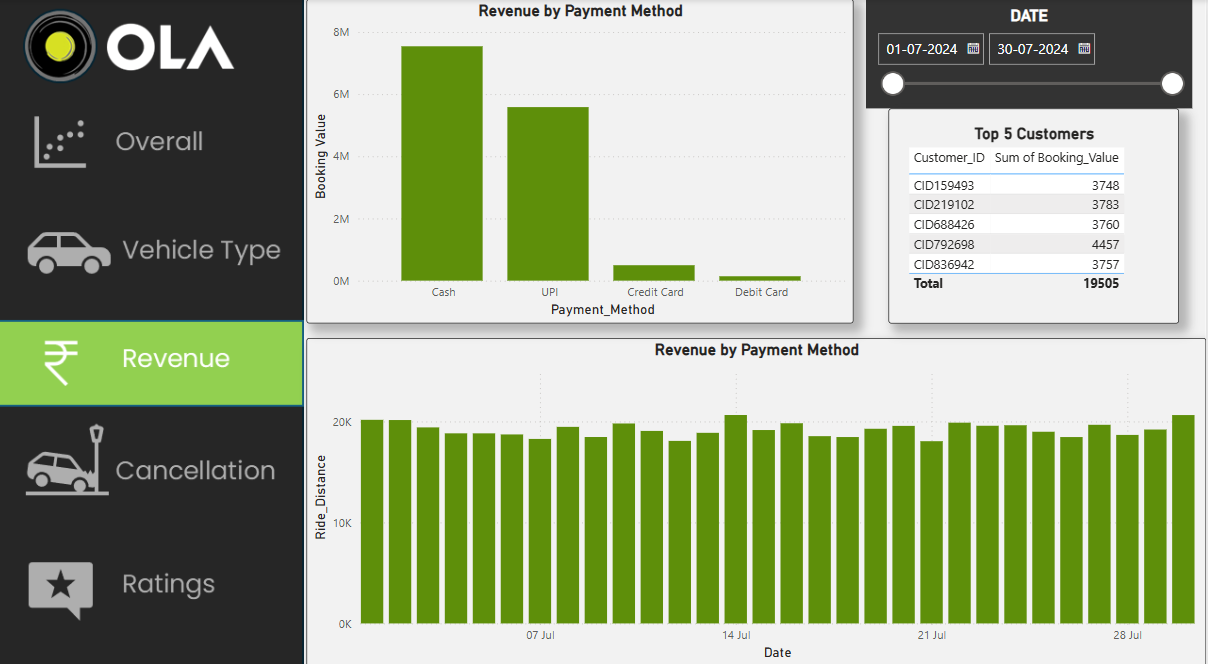

The page's visual inventory and layout, read from the dashboard file:
{"tool":"powerbi","page":{"name":"Revenue","canvas":[1280,720],"ordinal":2},"visuals":[{"type":"actionButton","box":[0,220.3,326.1,92.8],"z":0},{"type":"actionButton","box":[0,455.1,326.1,92.8],"z":1000},{"type":"actionButton","box":[0,573.9,326.1,92.8],"z":2000},{"type":"actionButton","box":[0,108.7,326.1,92.8],"z":3000},{"type":"columnChart","title":"Revenue by Payment Method","fields":{"Category":["Bookings-40000-Rows.Payment_Method"],"Y":["Sum(Bookings-40000-Rows.Booking_Value)"]},"box":[326,0,580,344],"z":4000},{"type":"columnChart","title":"Revenue by Payment Method","fields":{"Category":["Bookings-40000-Rows.Date"],"Y":["Sum(Bookings-40000-Rows.Ride_Distance)"]},"box":[326,360,954,348],"z":5000},{"type":"slicer","title":"DATE","fields":{"Values":["Bookings-40000-Rows.Date"]},"box":[920,0,346,116],"z":6000},{"type":"tableEx","title":"Top 5 Customers","fields":{"Values":["Bookings-40000-Rows.Customer_ID","Sum(Bookings-40000-Rows.Booking_Value)"]},"box":[944,116,308,228],"z":6001}]}

Visuals, with their boxes on the page's 1280x720 design canvas (x1, y1, x2, y2). These are canvas units, not pixel positions in the 1208x664 screenshot, which may show the page scaled, cropped or inside an application window:
actionButton: <bbox>0, 220, 326, 313</bbox>
actionButton: <bbox>0, 455, 326, 548</bbox>
actionButton: <bbox>0, 574, 326, 667</bbox>
actionButton: <bbox>0, 109, 326, 202</bbox>
"Revenue by Payment Method" columnChart: <bbox>326, 0, 906, 344</bbox>
"Revenue by Payment Method" columnChart: <bbox>326, 360, 1280, 708</bbox>
"DATE" slicer: <bbox>920, 0, 1266, 116</bbox>
"Top 5 Customers" tableEx: <bbox>944, 116, 1252, 344</bbox>
